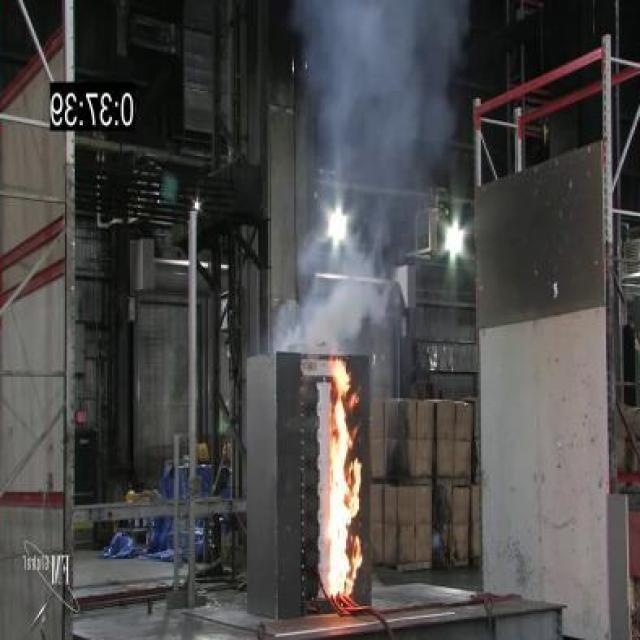fire: (273, 0, 476, 349)
smoke: (316, 353, 374, 601)
